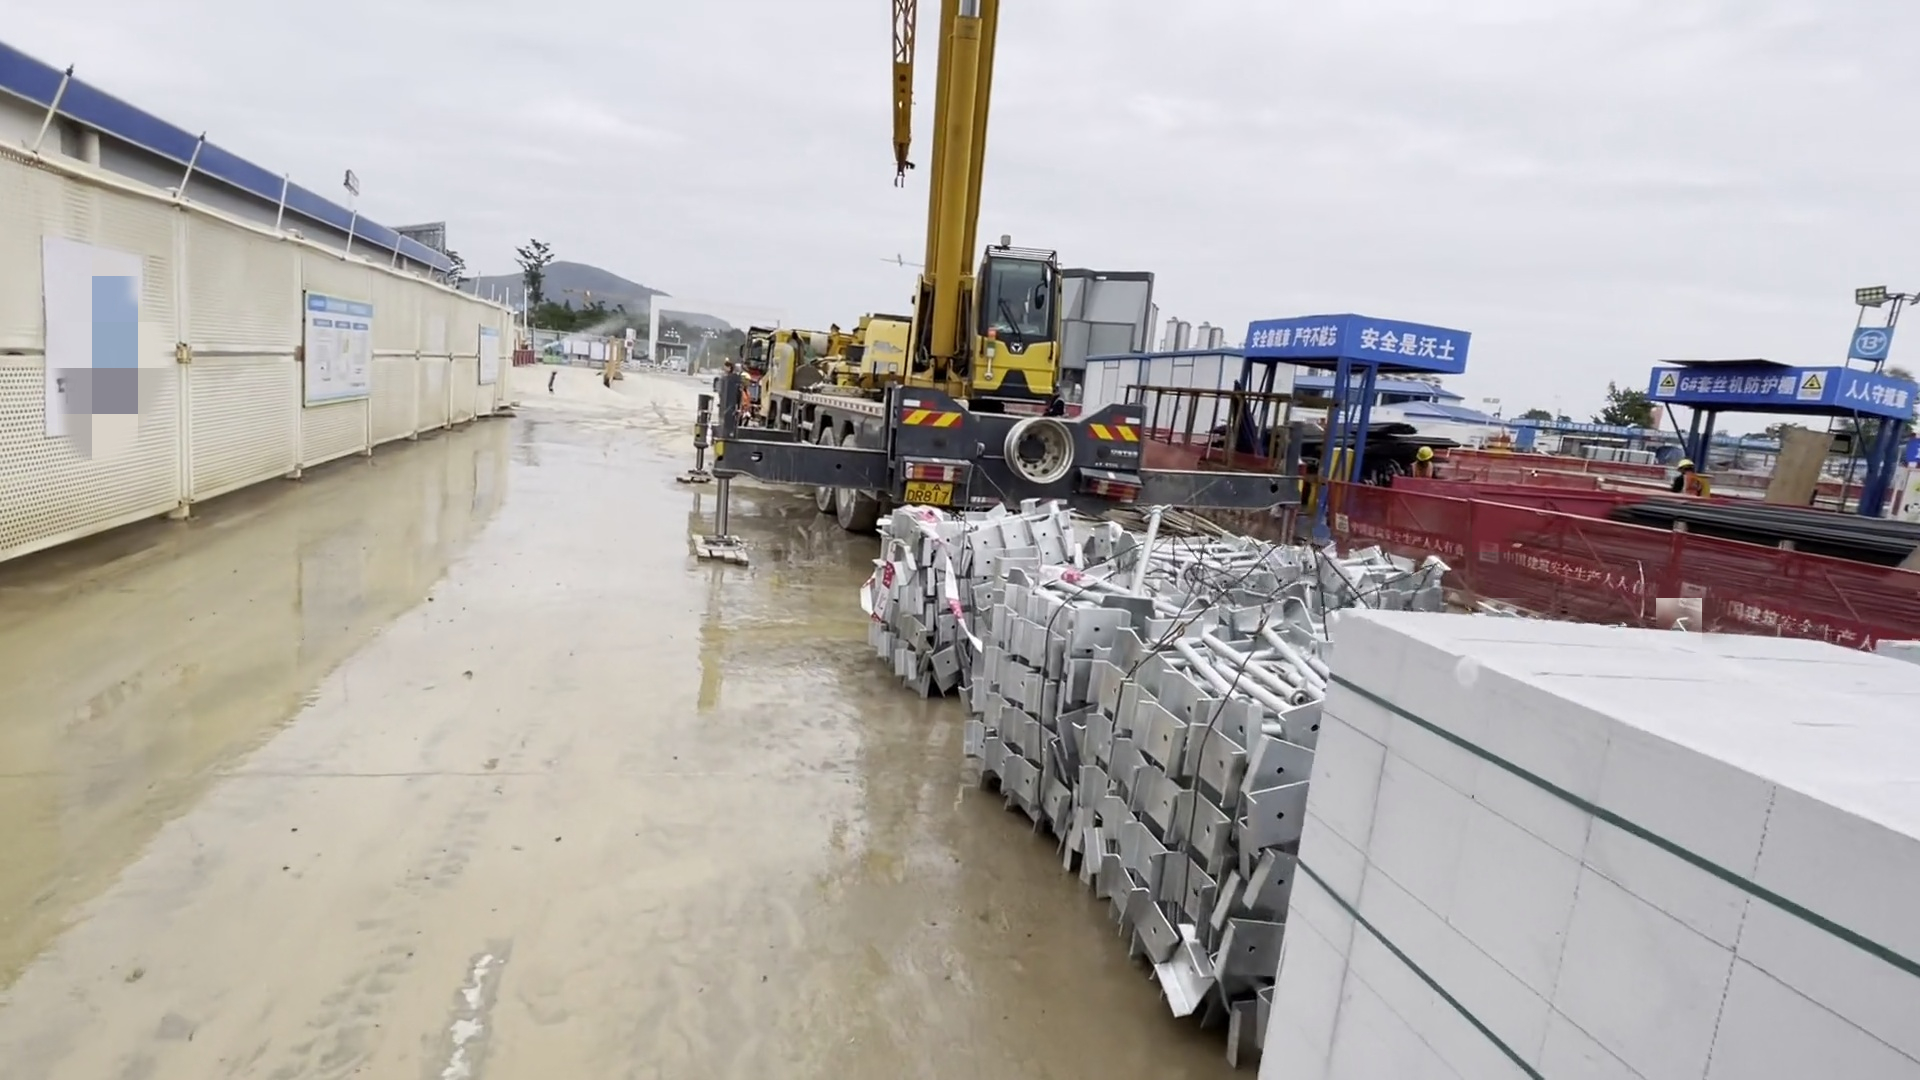brick: (1317, 593, 1912, 1080)
slogan: (1644, 363, 1912, 411), (1241, 316, 1466, 367)
